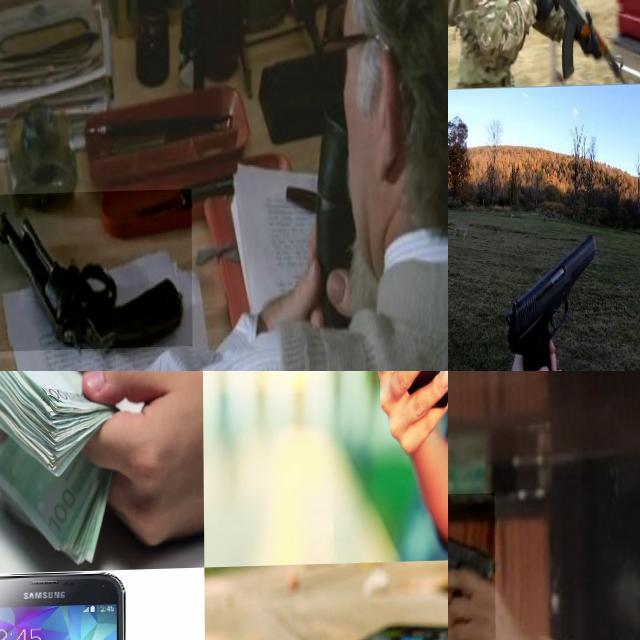gun-knife-thesis - v11 Yolov5 augmented: (0, 191, 191, 352), (490, 230, 594, 371), (503, 0, 627, 88), (448, 494, 511, 640), (448, 264, 483, 345), (448, 0, 469, 32)
